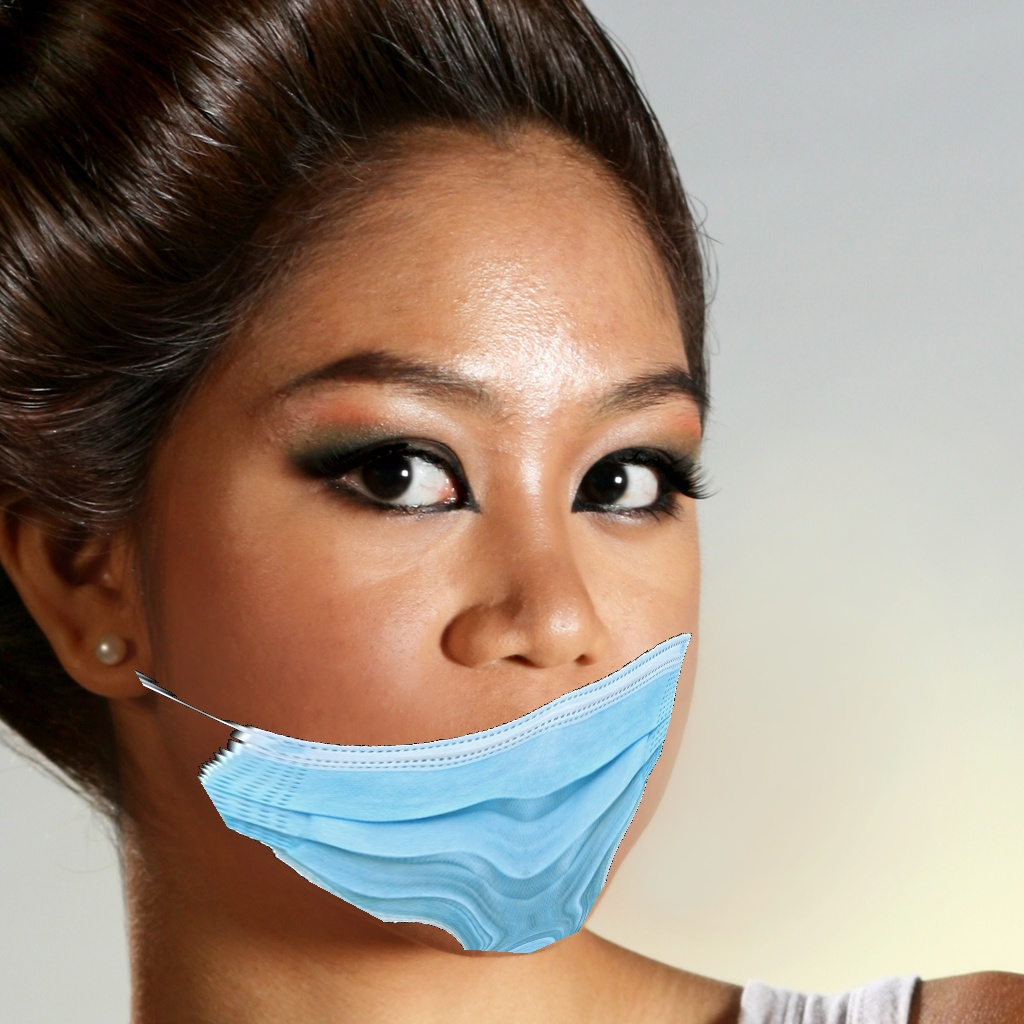mask_weared_incorrect: (129, 344, 737, 966)
